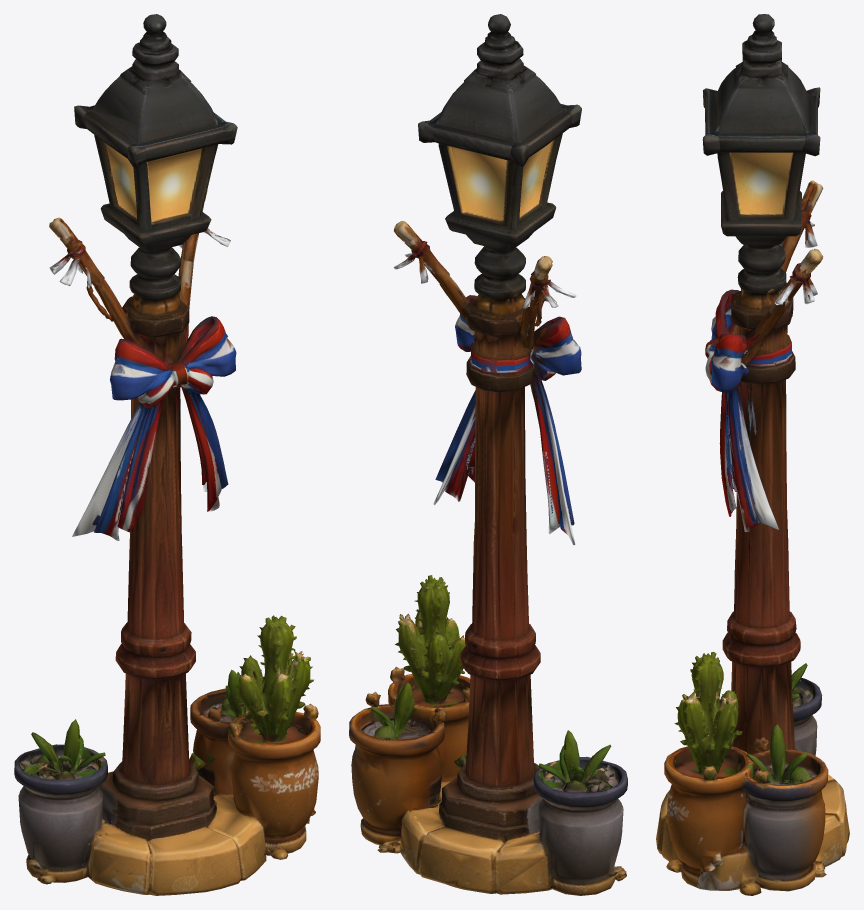
The model's file is farola_decorativa.glb.
3 renders of one model, left to right at view 1: azimuth 30°, elevation 25°; view 2: azimuth 150°, elevation 25°; view 3: azimuth 270°, elevation 25°, orthographic. The views are drawn at different scales.
Visible parts, largest first — view 1: farola_decorativa; view 2: farola_decorativa; view 3: farola_decorativa.
Part boxes in pixels (x1,y1,x2,y2): farola_decorativa: [14, 14, 320, 895]; farola_decorativa: [349, 14, 627, 895]; farola_decorativa: [656, 14, 849, 895].
Size of what is drawn, in the model's own units: 0.9831 by 3 by 0.6399.
Materials: 1 (1 with a texture image).
